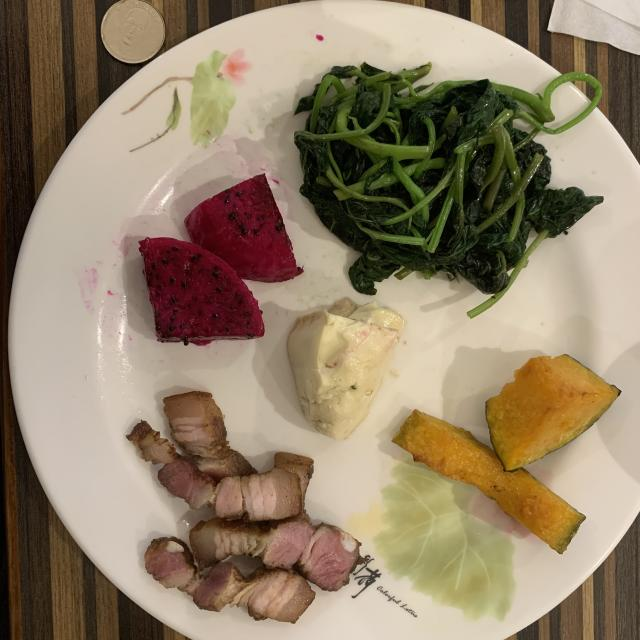coin: (101, 0, 165, 64)
grilled pork: (128, 392, 361, 622)
pumpkin: (392, 354, 620, 554)
sweet potato leaves: (295, 62, 602, 294)
